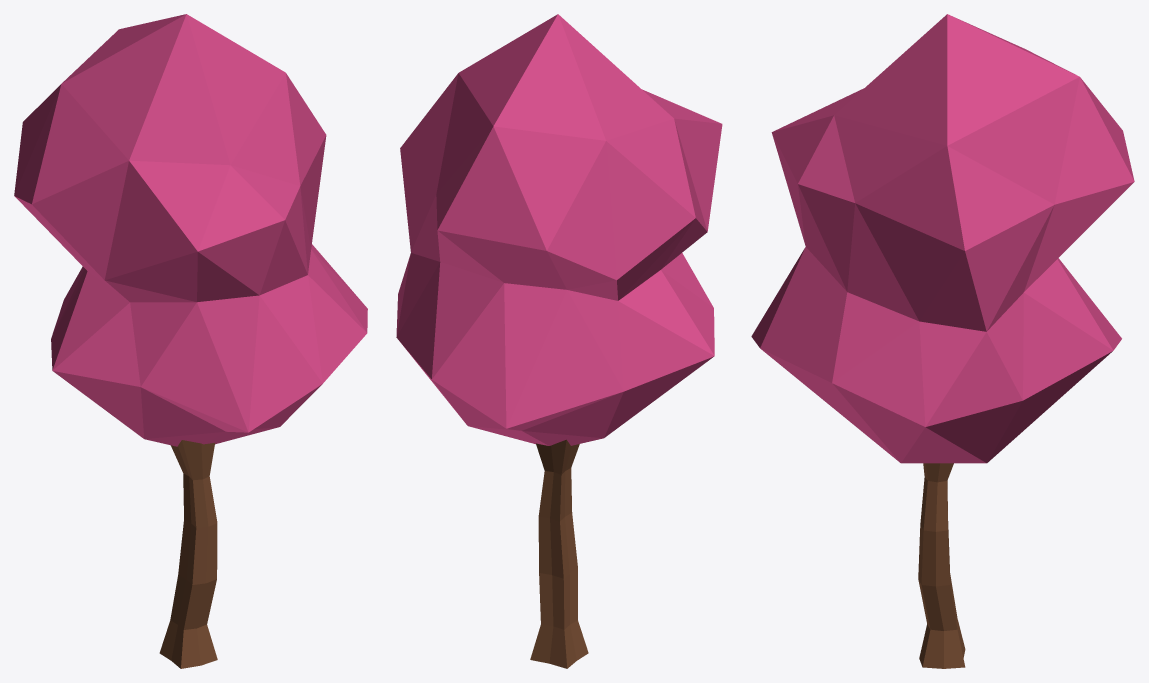
File: Tree_42_Pink.fbx
3 views of the same model, side by side, from view 1: azimuth 30°, elevation 25°; view 2: azimuth 150°, elevation 25°; view 3: azimuth 270°, elevation 25° (orthographic).
Parts seen in each view (by area): view 1: Tree_42_Pink_Part_1, Tree_42_Pink_Part_2; view 2: Tree_42_Pink_Part_1, Tree_42_Pink_Part_2; view 3: Tree_42_Pink_Part_1, Tree_42_Pink_Part_2.
Part boxes in pixels (x1=…): Tree_42_Pink_Part_1: x1=14, y1=14, x2=367, y2=446; Tree_42_Pink_Part_2: x1=159, y1=440, x2=217, y2=668; Tree_42_Pink_Part_1: x1=396, y1=14, x2=722, y2=445; Tree_42_Pink_Part_2: x1=530, y1=439, x2=588, y2=668; Tree_42_Pink_Part_1: x1=751, y1=14, x2=1134, y2=463; Tree_42_Pink_Part_2: x1=918, y1=463, x2=965, y2=668.
Size of the model in its own units: 411 by 797 by 430.
